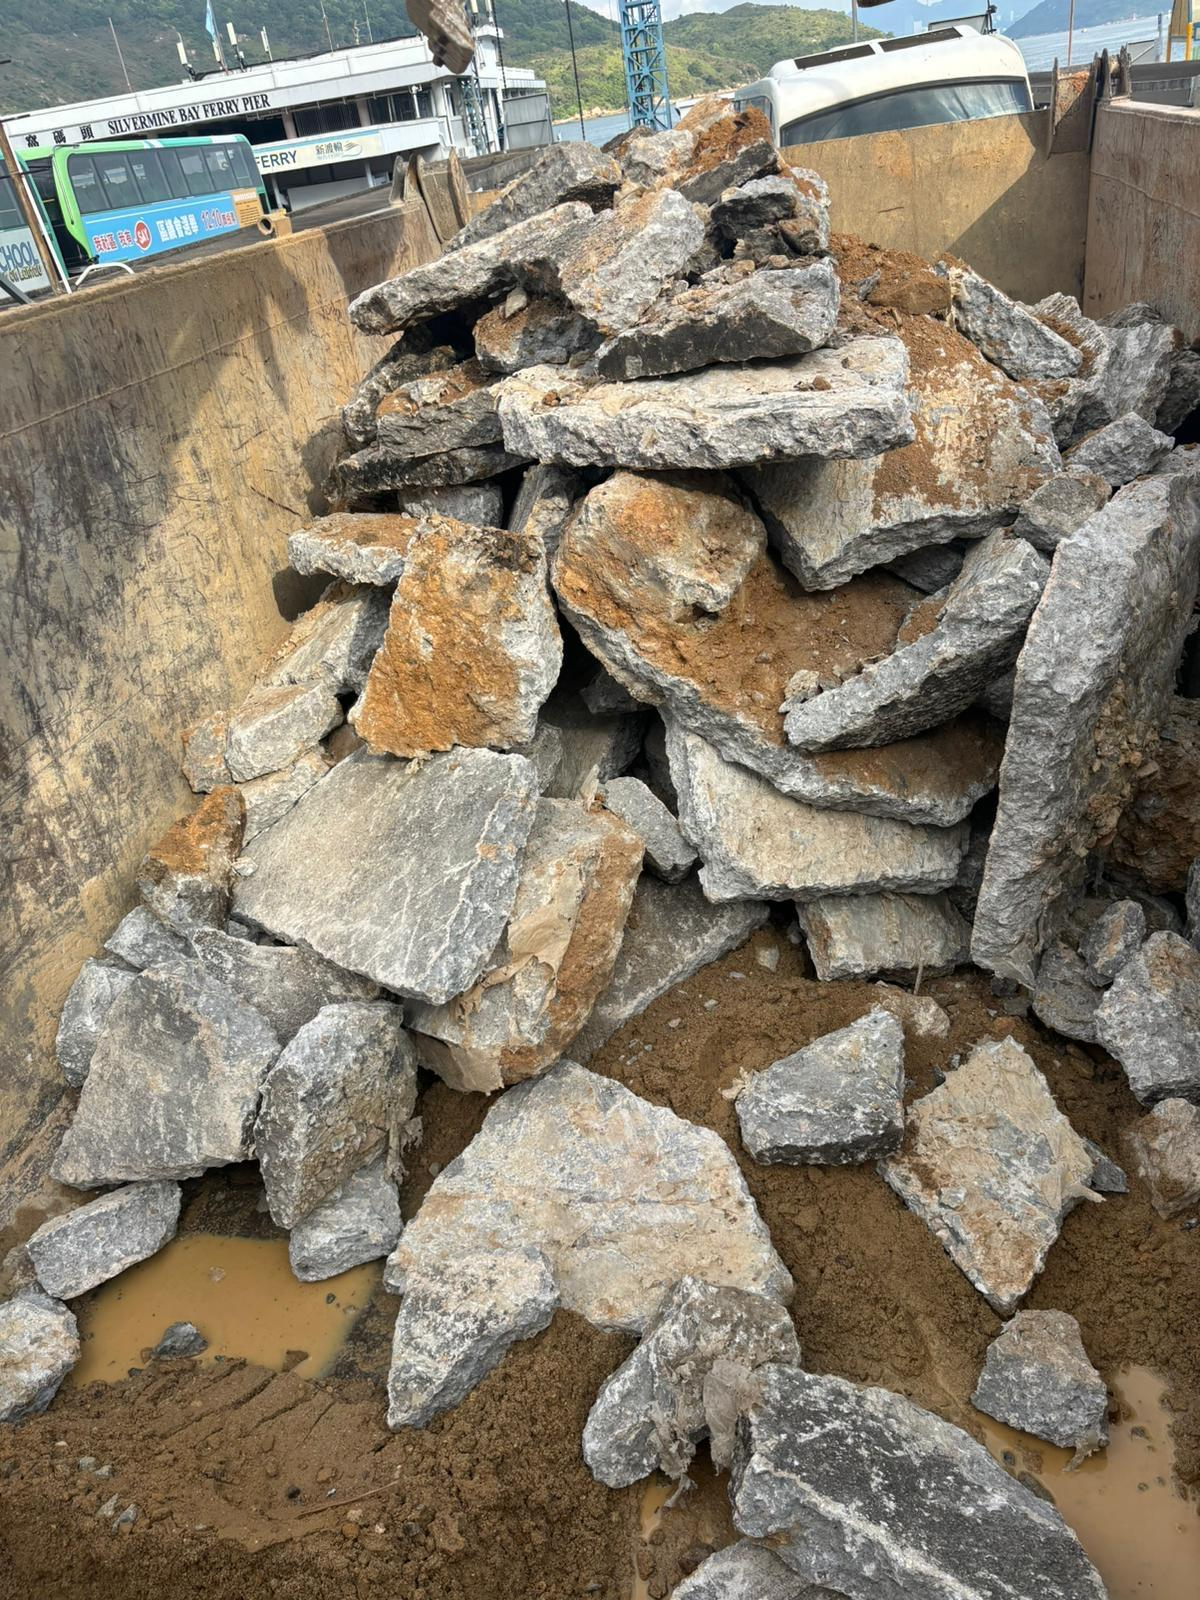dry: (58, 140, 1192, 1590)
